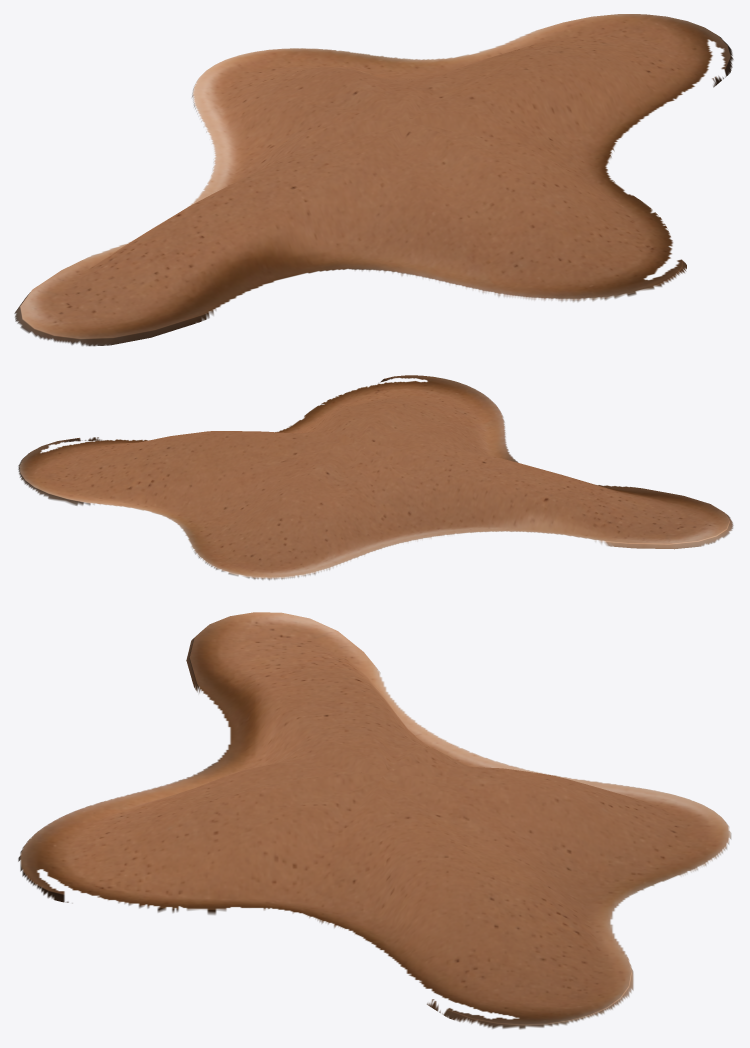
The model's file is dirt_1.glb.
3 renders of one model, top to bottom at view 1: azimuth 30°, elevation 25°; view 2: azimuth 150°, elevation 25°; view 3: azimuth 270°, elevation 25°, orthographic. The views are drawn at different scales.
Visible parts, largest first — view 1: dirt_1; view 2: dirt_1; view 3: dirt_1.
Boxes of the visible parts, box(x1,y1,x2,y2) form: dirt_1: box(14, 14, 733, 346); dirt_1: box(18, 375, 733, 580); dirt_1: box(18, 612, 731, 1029).
Size of the model in its own units: 0.8654 by 0.0653 by 0.6297.
1 material, 1 textured.
